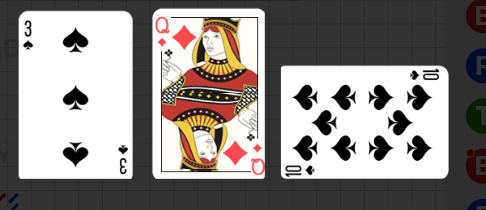10S: (407, 69, 441, 83), (284, 163, 317, 177)
3S: (116, 143, 130, 177)
QD: (208, 132, 252, 179), (141, 12, 185, 58)
